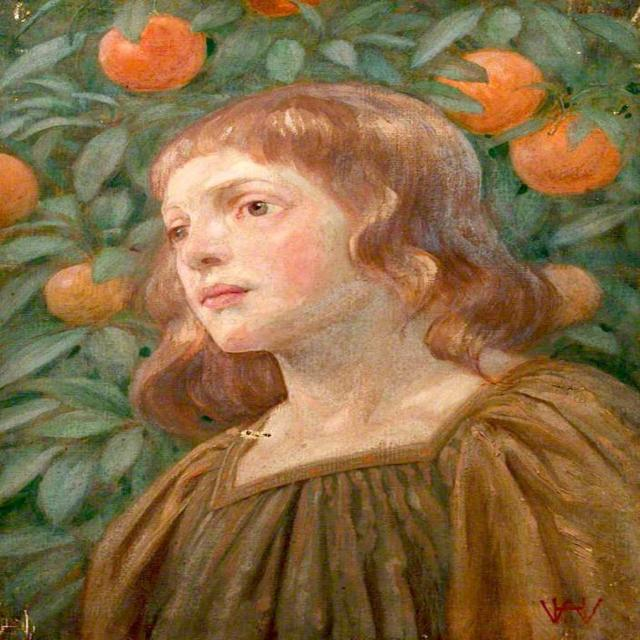Healty Apple: (96, 12, 204, 91)
